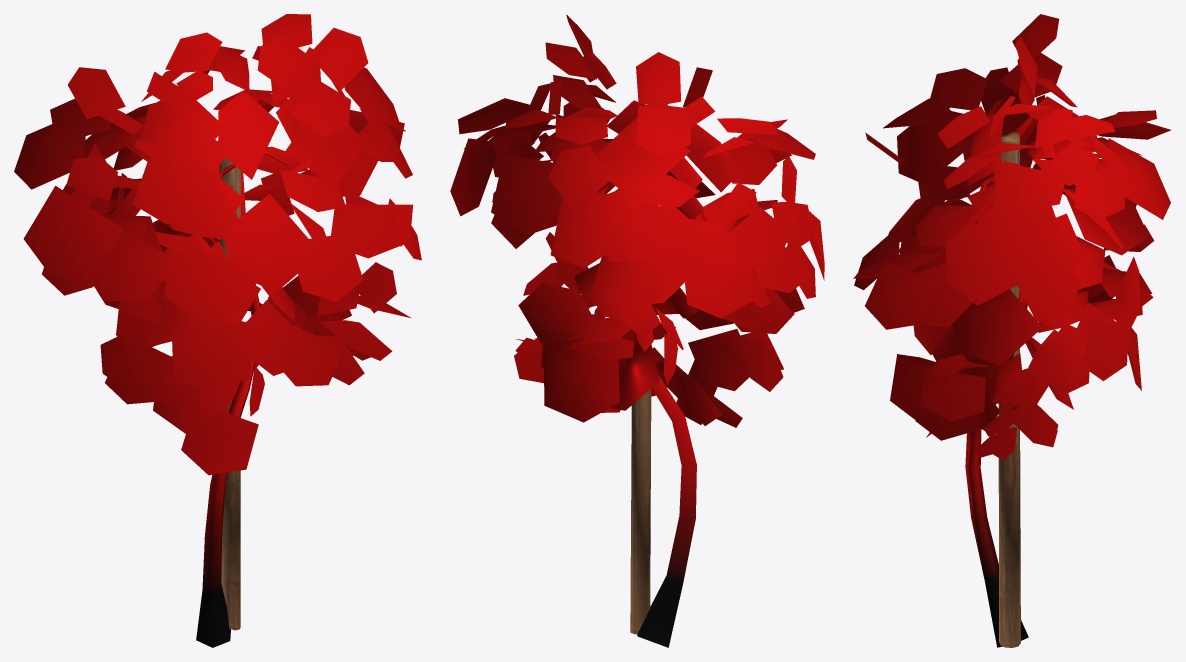
File: SM_Farm_GrapevineGrown_01.fbx
3 renders of one model, left to right at view 1: azimuth 30°, elevation 25°; view 2: azimuth 150°, elevation 25°; view 3: azimuth 270°, elevation 25°, orthographic. The views are drawn at different scales.
Parts seen in each view (by area): view 1: SM_Farm_GrapevineGrown_01_LOD0; view 2: SM_Farm_GrapevineGrown_01_LOD0; view 3: SM_Farm_GrapevineGrown_01_LOD0.
Part boxes in pixels (bbox=[...]): SM_Farm_GrapevineGrown_01_LOD0: bbox=[14, 14, 421, 647]; SM_Farm_GrapevineGrown_01_LOD0: bbox=[450, 14, 824, 647]; SM_Farm_GrapevineGrown_01_LOD0: bbox=[853, 14, 1171, 647].
Bounding box in the file's own units: 110 × 169 × 81.46.
